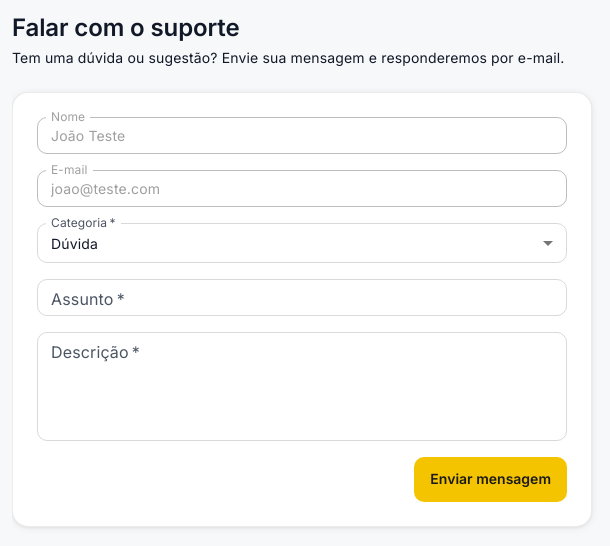
SuporteForm › envia apenas categoria/assunto/descrição (sem nome/e-mail) e mostra sucesso
This screenshot has width=610, height=546.
Type "Não consigo acessar" into the field labelled "Assunto *" at (302, 298), box [37,279,567,316]
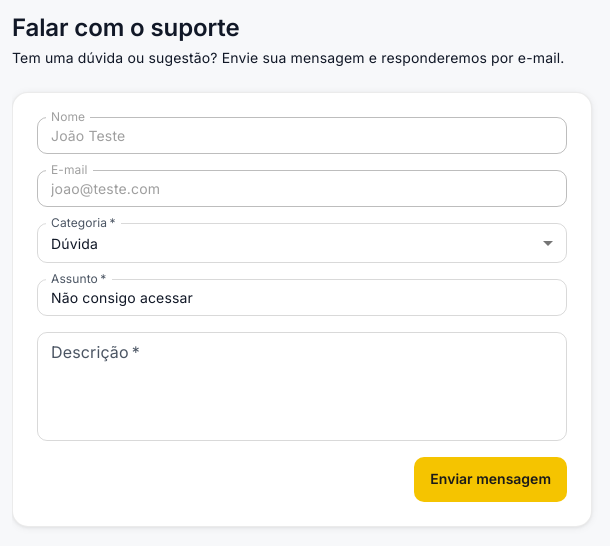
Type "Descrição longa o suficiente para passar na validação." into the text box labelled "Descrição *" at (302, 387), box [51,341,553,433]
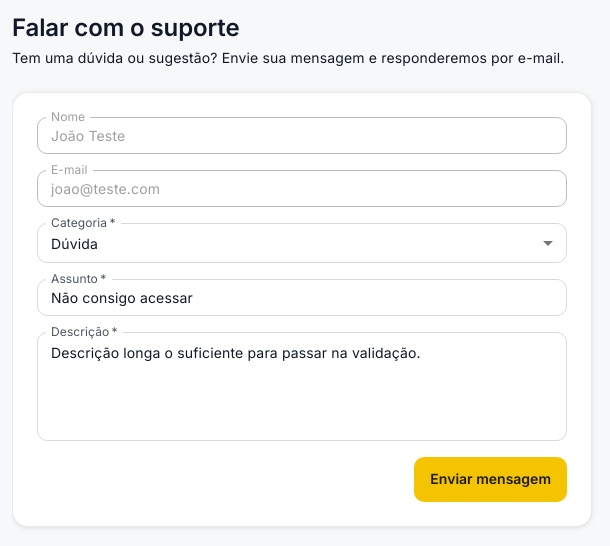
Click the button "Enviar mensagem" at (491, 480), box [414,457,567,502]
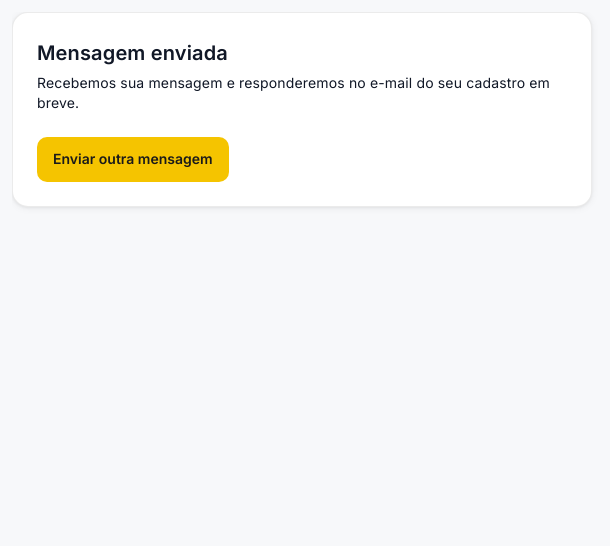
Now the heading "Mensagem enviada" is shown, box [37,41,228,65]
